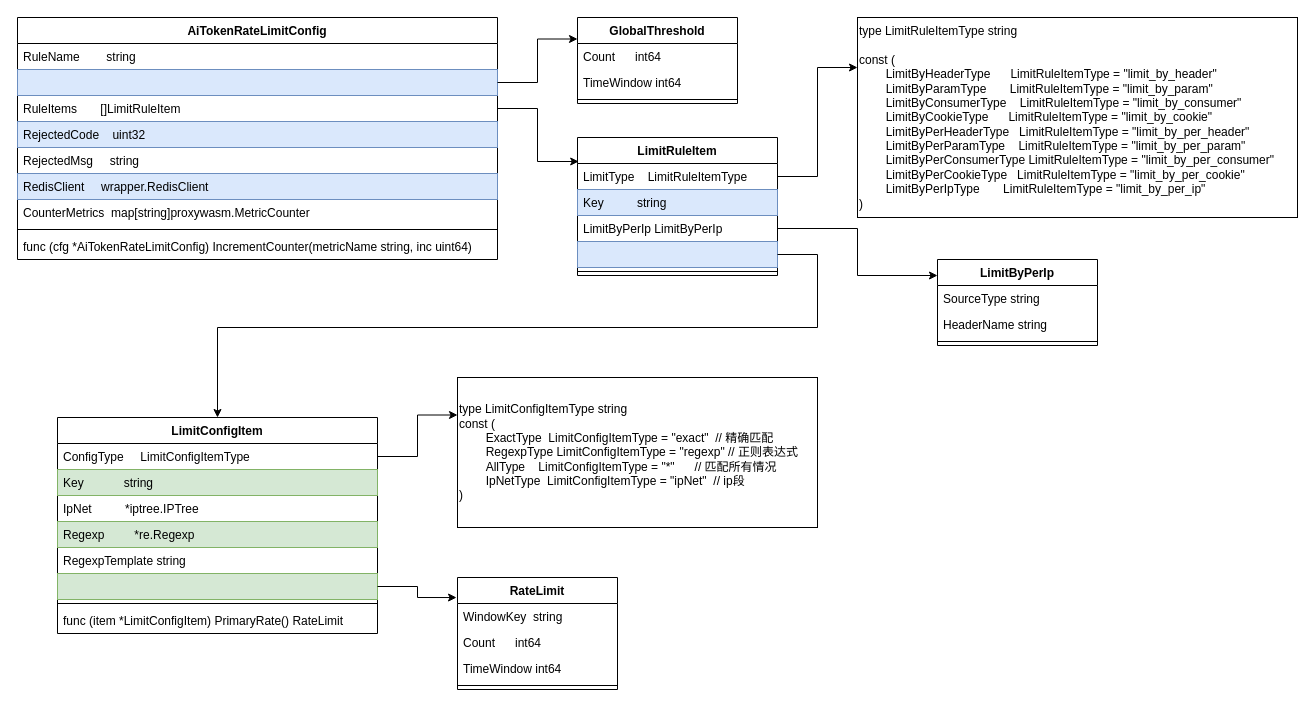
This 1315x707 diagram has some shape labels left out. Here are the shapes that lost their labels. From the top down, the centre of each, then its label:
At [257,82]: "GlobalThreshold *GlobalThreshold".
At [677,254]: "ConfigItems []LimitConfigItem".
At [217,586]: "RateLimits []RateLimit".
